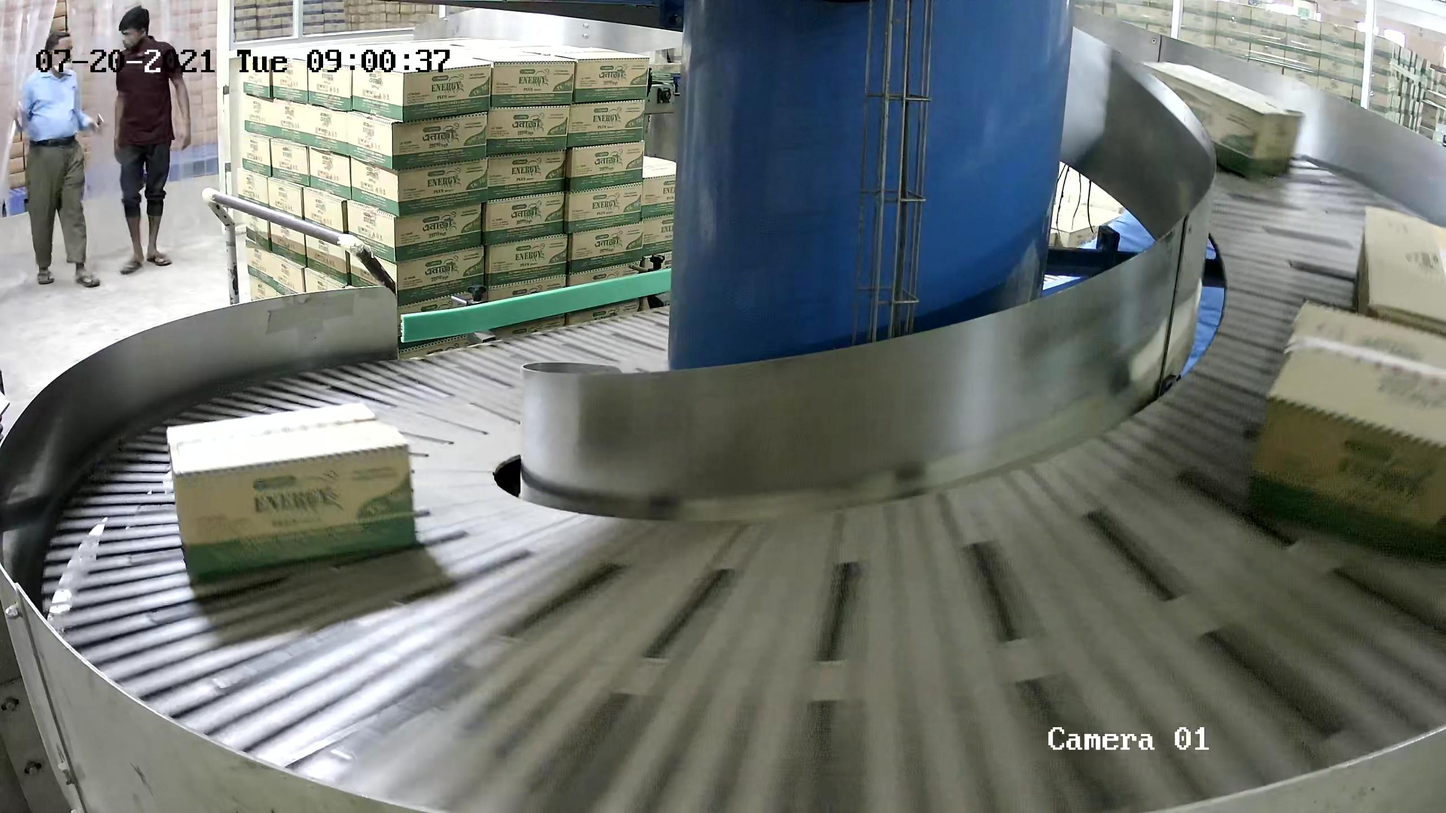Box: (1248, 297, 1446, 559), (165, 401, 418, 578), (1135, 60, 1306, 179)
